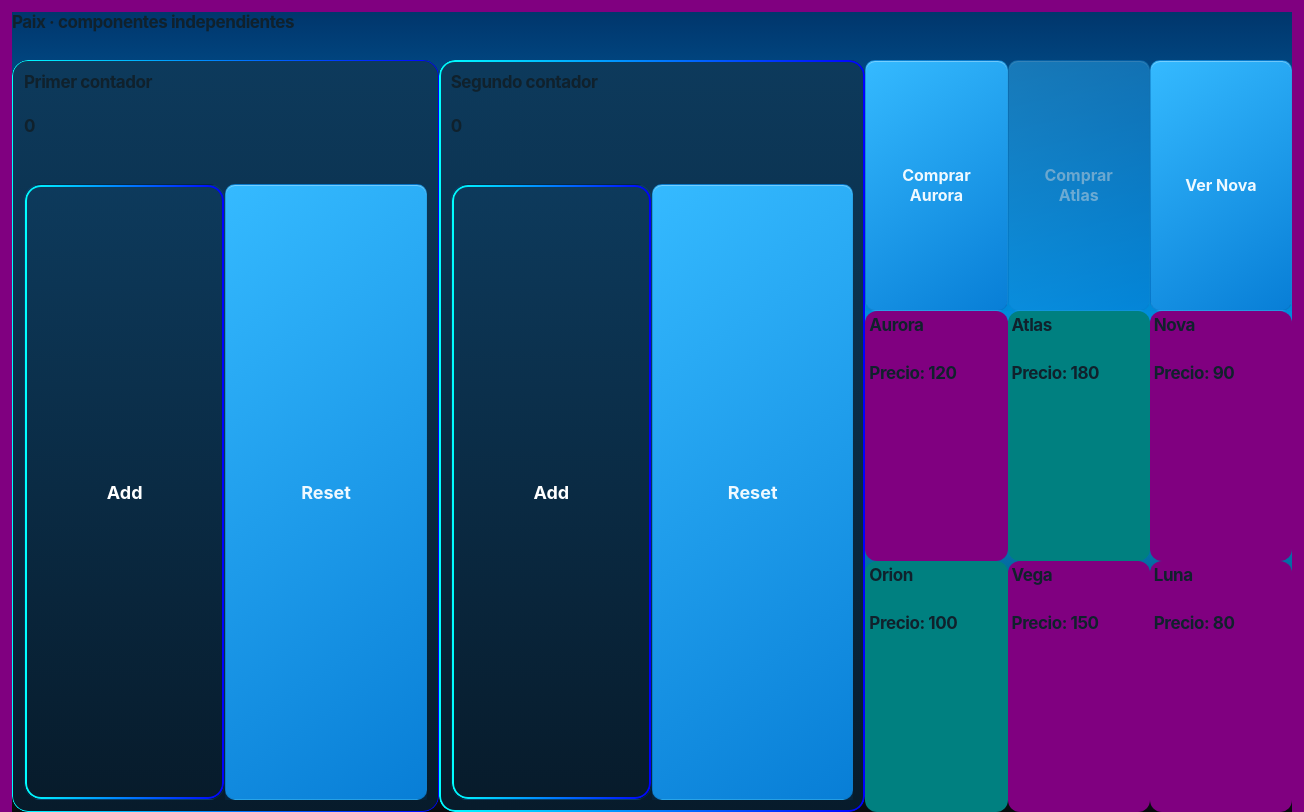
runs entry page without editor chrome and supports state actions
Click the button "Add" below "Primer contador".
click(125, 492)  # box 24,184 -> 225,800
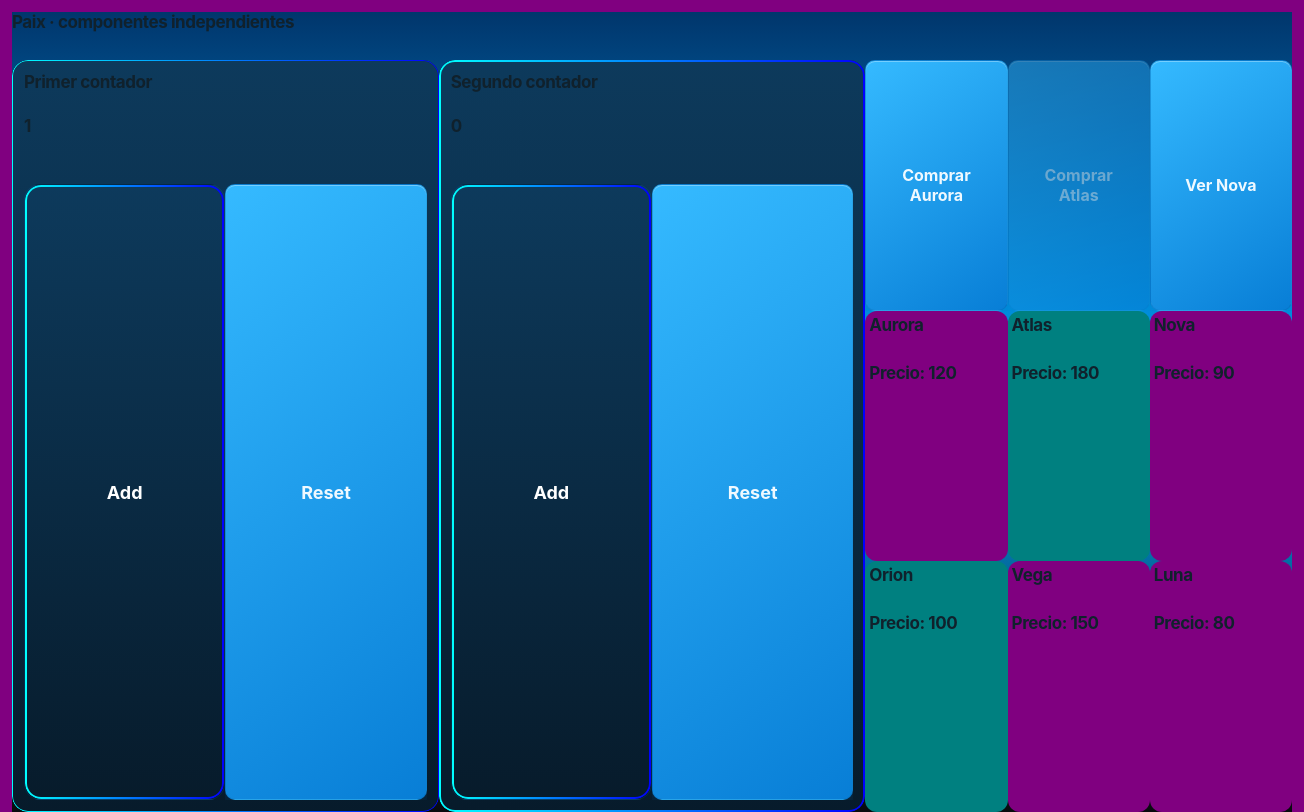
Check: the element showing "Primer contador 1 Add Reset" is shown, box 12,60 -> 439,811
